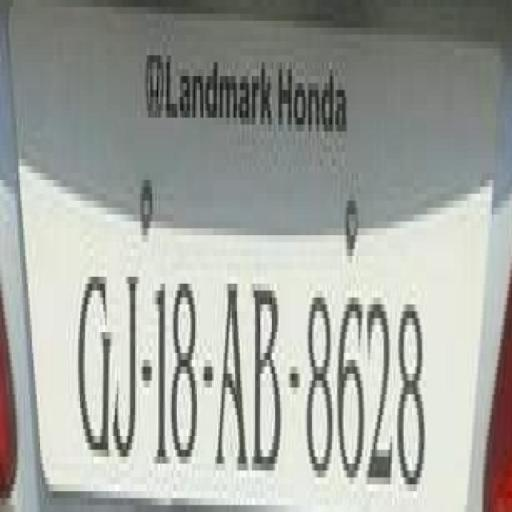number plate: (22, 186, 506, 512)
